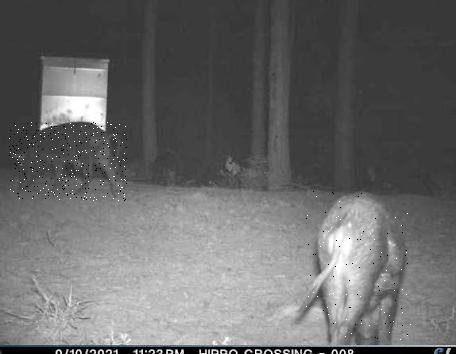Hog: (306, 187, 411, 340), (9, 122, 127, 201)
